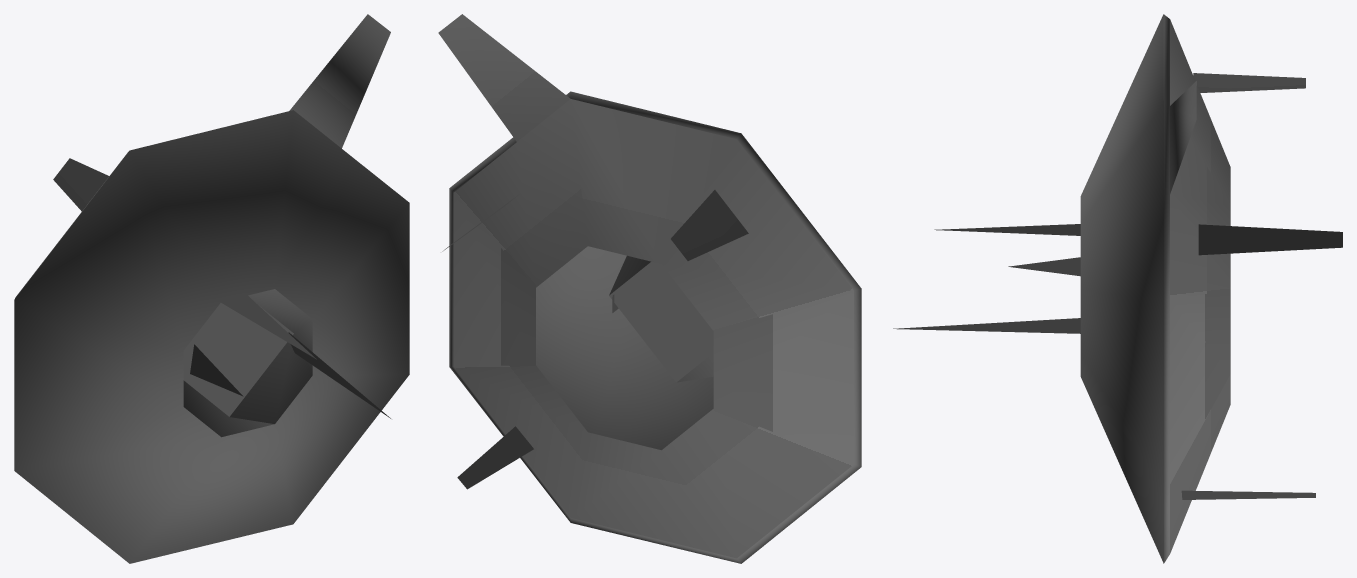
The model's file is stat_top3.glb.
The picture shows the model from 3 angles, left to right: view 1: azimuth 30°, elevation 25°; view 2: azimuth 150°, elevation 25°; view 3: azimuth 270°, elevation 25°; orthographic projection. The views are drawn at different scales.
Parts seen in each view (by area): view 1: group_19; view 2: group_19; view 3: group_19.
Boxes of the visible parts, <box> form: group_19: <box>14,14,409,563</box>; group_19: <box>438,14,861,563</box>; group_19: <box>893,14,1342,563</box>.
Bounding box in the file's own units: 17529 × 20229 × 15611.
2 materials, 2 textured.
